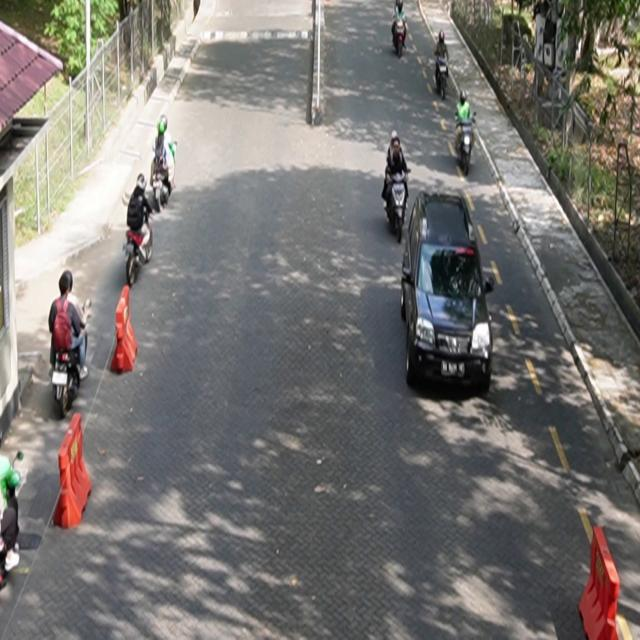car: (401, 191, 496, 393)
